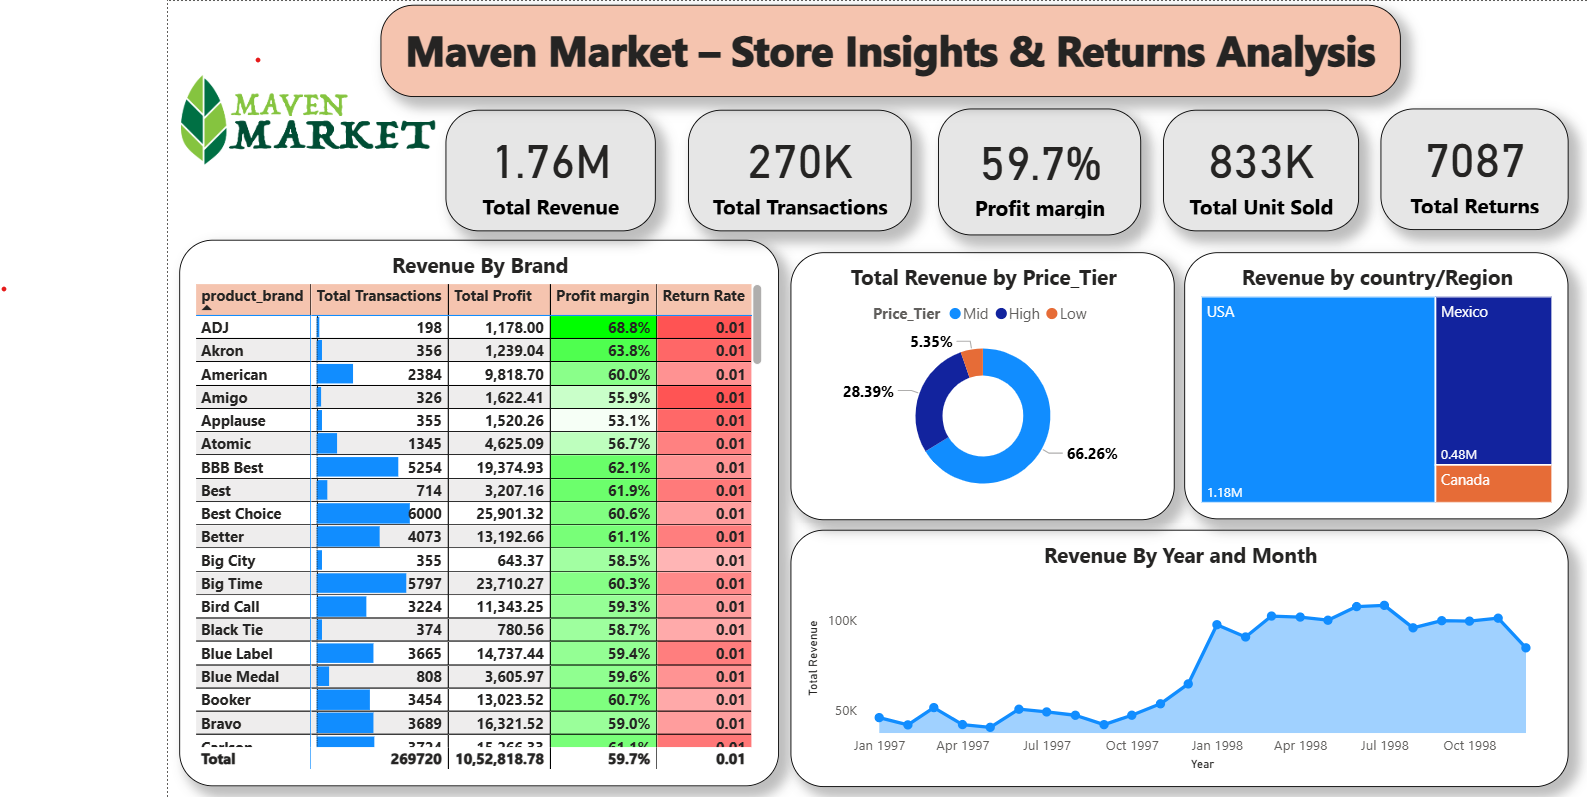

The page's visual inventory and layout, read from the dashboard file:
{"tool":"powerbi","page":{"name":"Dashboard","canvas":[1280,720],"ordinal":0},"visuals":[{"type":"pivotTable","title":"Revenue By Brand","fields":{"Rows":["Products.product_brand"],"Values":["Transaction_Data.Total Transactions","Transaction_Data.Total Profit","Transaction_Data.Profit margin","Returns.Return Rate"]},"box":[10,215.7,541.1,492.5],"z":0},{"type":"lineChart","title":"Revenue By Year and Month","fields":{"Category":["calender.date.Variation.Date Hierarchy.Year","calender.date.Variation.Date Hierarchy.Month"],"Y":["Transaction_Data.Total Revenue"]},"box":[561,476.3,701.9,231.9],"z":1000},{"type":"donutChart","fields":{"Y":["Transaction_Data.Total Revenue"],"Category":["Products.Price_Tier"]},"box":[561,226.9,346.6,241.9],"z":2000},{"type":"card","title":"Total Transcation","fields":{"Values":["Transaction_Data.Total Transactions"]},"box":[469,98.3,201.5,109.5],"z":3000},{"type":"card","fields":{"Values":["Transaction_Data.Total Revenue"]},"box":[250.6,98.5,189.5,109.7],"z":4000},{"type":"card","fields":{"Values":["Transaction_Data.Profit margin"]},"box":[694.4,97.2,183.3,114.7],"z":5000},{"type":"card","fields":{"Values":["Transaction_Data.Quantity Sold"]},"box":[897.7,98.5,177,109.7],"z":6000},{"type":"card","fields":{"Values":["Returns.Total Returns"]},"box":[1093.4,97.2,169.6,109.7],"z":7000},{"type":"treemap","title":"Revenue by country/Region","fields":{"Group":["Stores.country Hierarchy.country","Stores.country Hierarchy.state/province","Stores.country Hierarchy.city"],"Values":["Transaction_Data.Total Revenue"]},"box":[916.4,226.9,346.6,240.6],"z":8000},{"type":"textbox","box":[192,3.7,920.1,83.5],"z":9000},{"type":"image","box":[0,0,250.6,213.2],"z":10000}]}

Visuals, with their boxes on the page's 1280x720 design canvas (x1, y1, x2, y2). These are canvas units, not pixel positions in the 1587x797 screenshot, which may show the page scaled, cropped or inside an application window:
"Revenue By Brand" pivotTable: rect(10, 216, 551, 708)
"Revenue By Year and Month" lineChart: rect(561, 476, 1263, 708)
donutChart - Transaction_Data.Total Revenue x Products.Price_Tier: rect(561, 227, 908, 469)
"Total Transcation" card: rect(469, 98, 670, 208)
card - Transaction_Data.Total Revenue: rect(251, 98, 440, 208)
card - Transaction_Data.Profit margin: rect(694, 97, 878, 212)
card - Transaction_Data.Quantity Sold: rect(898, 98, 1075, 208)
card - Returns.Total Returns: rect(1093, 97, 1263, 207)
"Revenue by country/Region" treemap: rect(916, 227, 1263, 468)
textbox: rect(192, 4, 1112, 87)
image: rect(0, 0, 251, 213)
